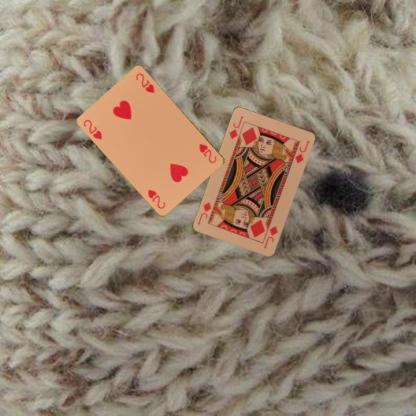2h: (196, 141, 218, 165), (81, 117, 103, 141)
Jd: (226, 114, 245, 140), (261, 224, 279, 250)
